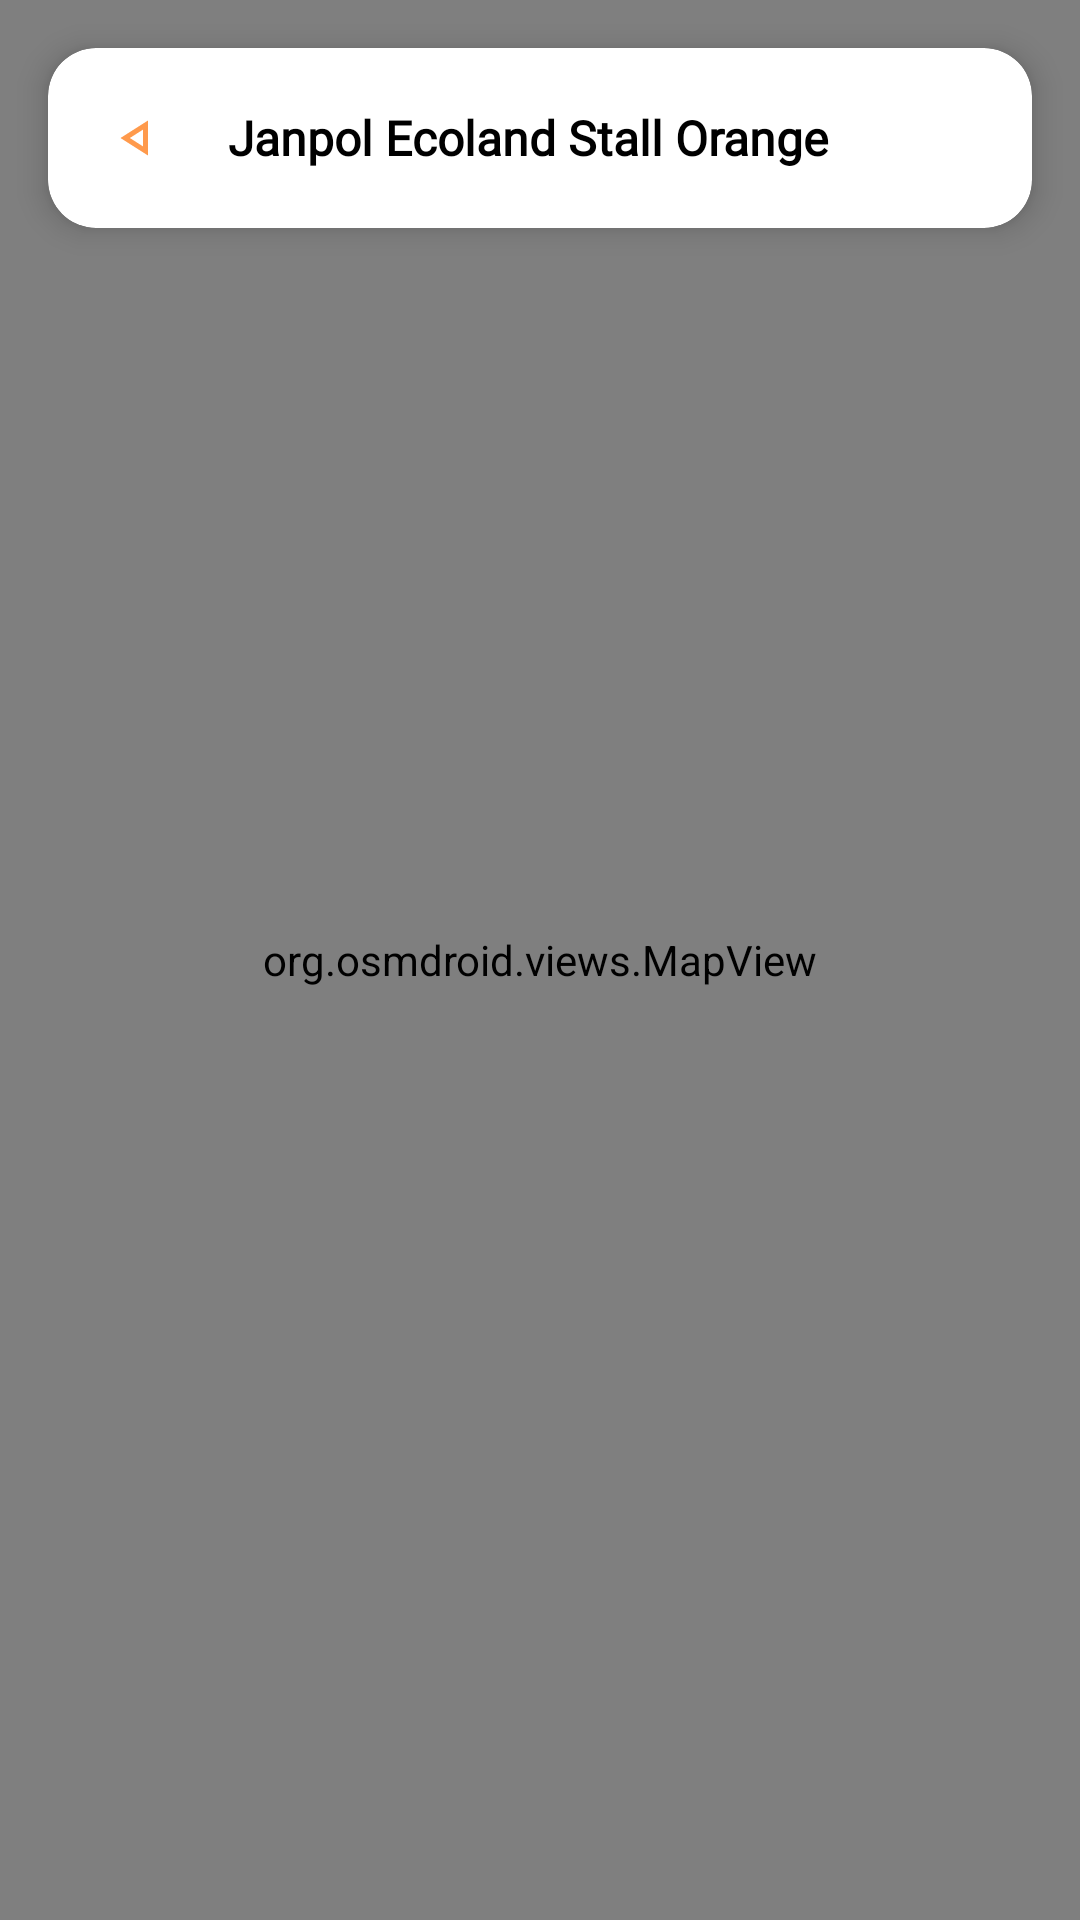

Named icons in this screenshot (1080×1920) and their bounding boxes, region(x1, y1, x2, y2):
Go back: region(121, 120, 148, 156)
